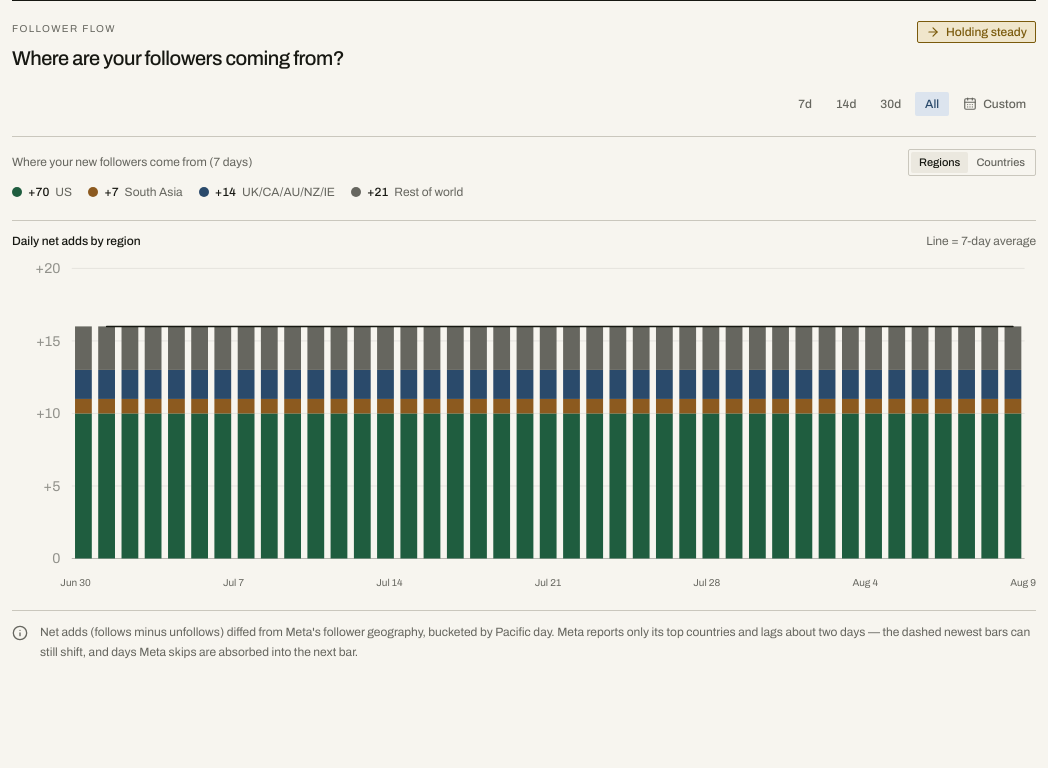
Test case: Follower flow date filter › hides the trend badge when the predecessor is only partly covered
30 days of a 41-day account leaves an 11-day predecessor — not comparable.
Click the button "30d" at (891, 104), box 870,92 -> 911,116
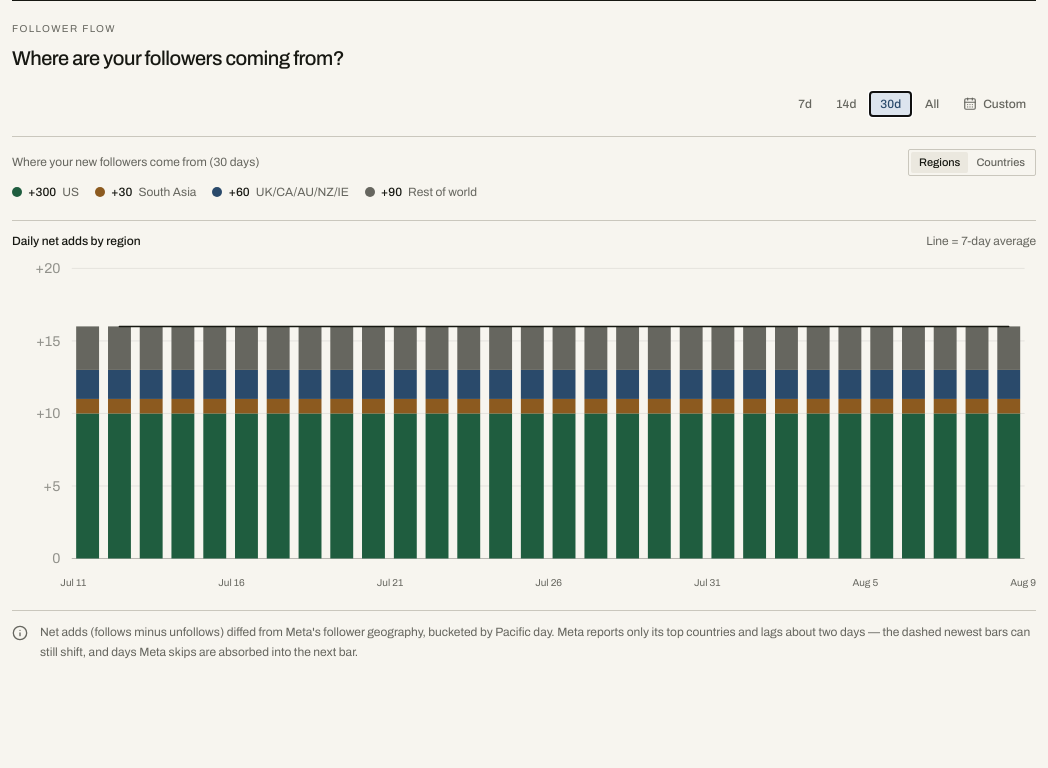
Check: the text "Holding steady" is gone
